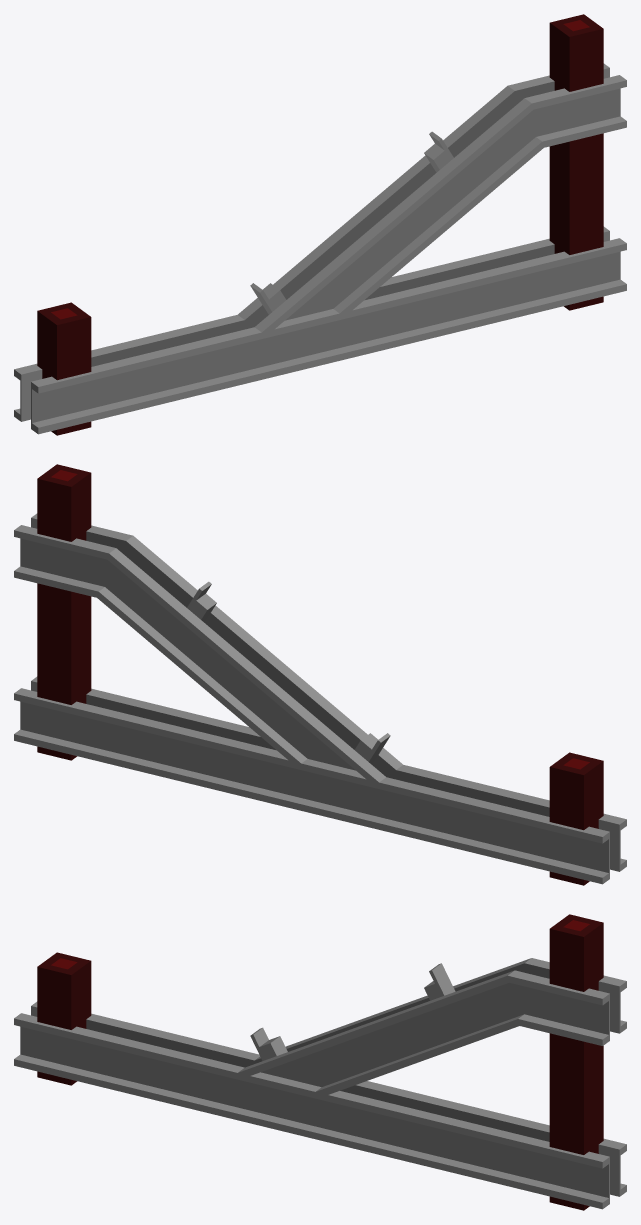
Rendered from rmc_support_bank_two_thirds.obj.
3 renders of one model, top to bottom at view 1: azimuth 30°, elevation 25°; view 2: azimuth 150°, elevation 25°; view 3: azimuth 330°, elevation 25°, orthographic.
Bounding box in the file's own units: 3.55 × 1.58 × 0.254.
